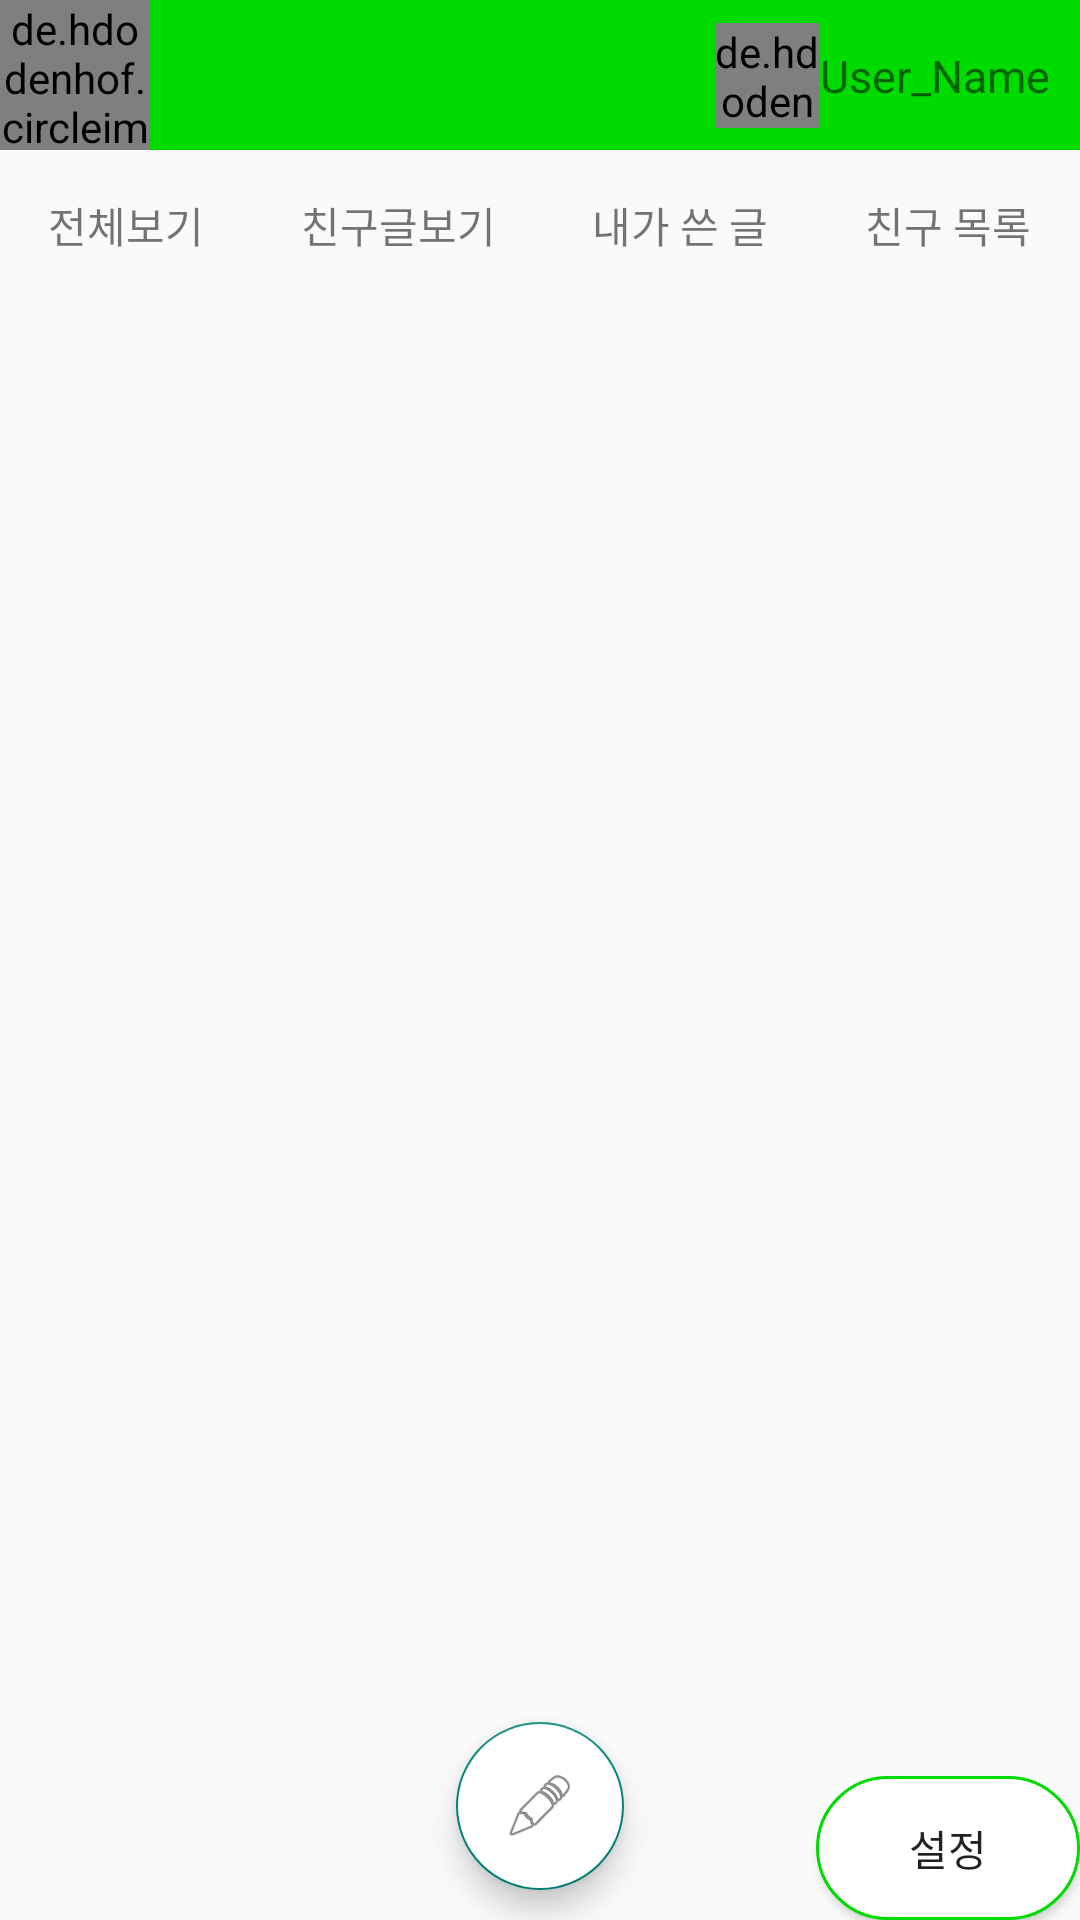

Screen size 1080px x 1920px. Icon name, then its center in pixels as (x=x, y=y):
edit: (x=540, y=1806)
